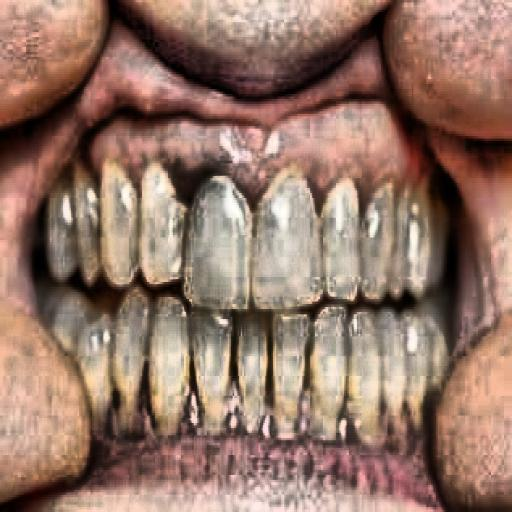Gingivitis: (86, 101, 416, 199)
